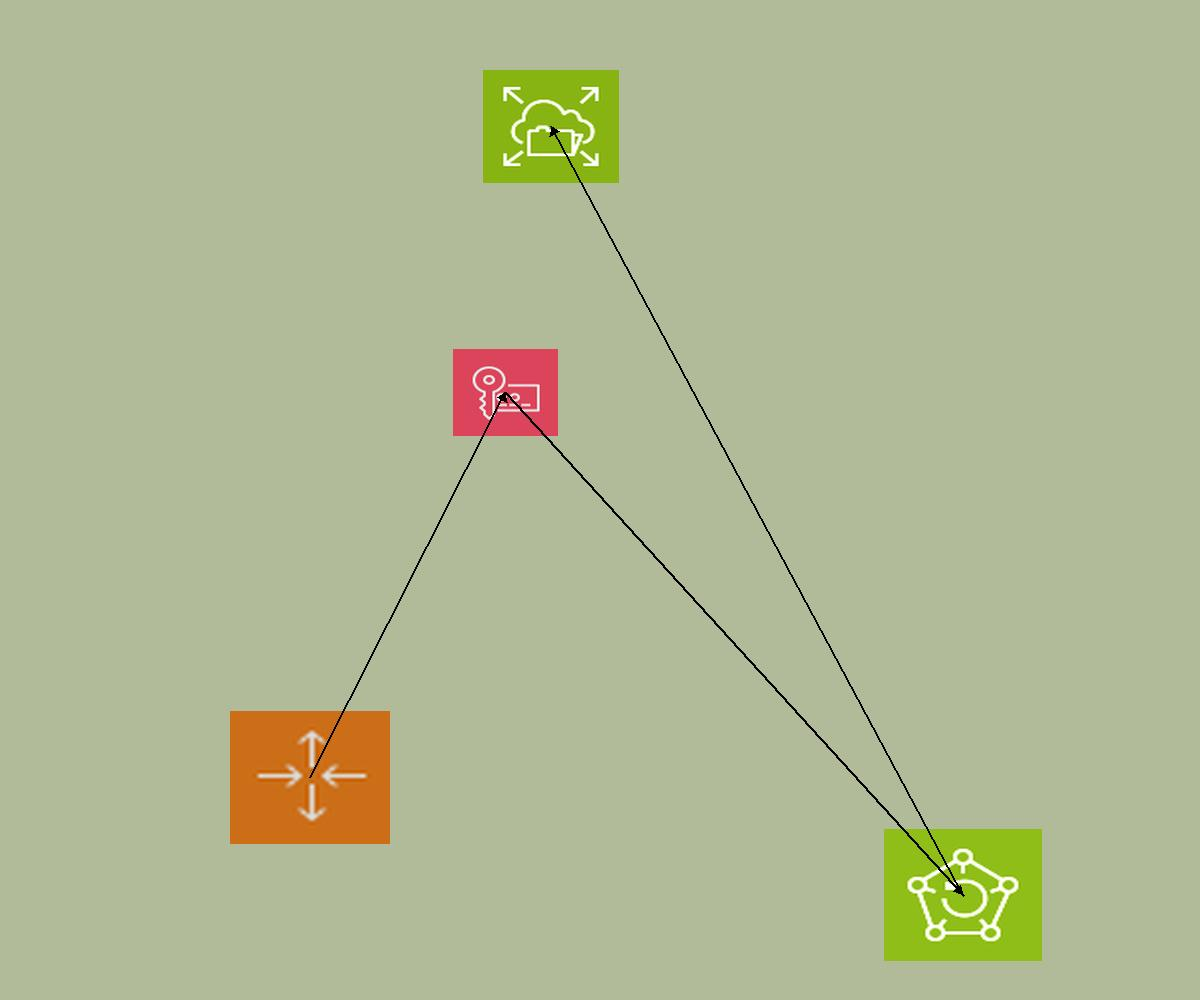AWS-Backup: (884, 829, 1042, 961)
AWS-EFS: (483, 70, 619, 183)
AWS-Key-Management-Service: (453, 349, 558, 436)
AWS-Scaling-group: (230, 711, 390, 844)
